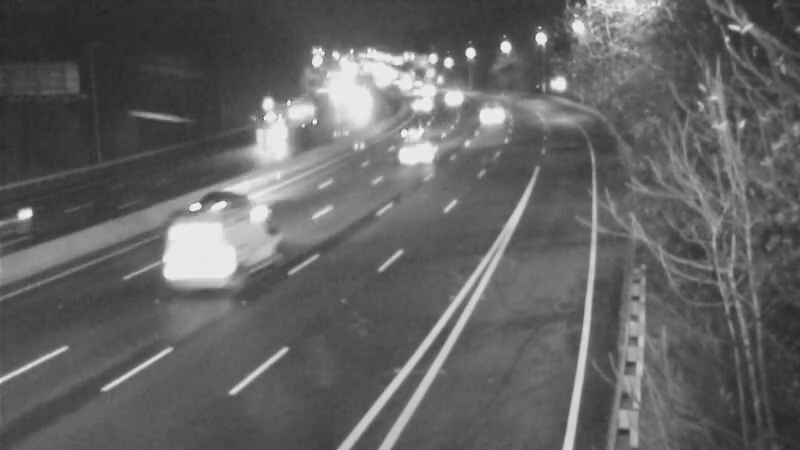vehicle: (378, 112, 458, 192), (165, 158, 245, 238), (163, 212, 243, 292), (1, 177, 68, 257), (403, 62, 453, 112), (394, 68, 444, 118), (427, 72, 477, 122), (393, 82, 443, 132), (461, 86, 511, 136), (383, 104, 433, 154), (248, 100, 298, 150)
